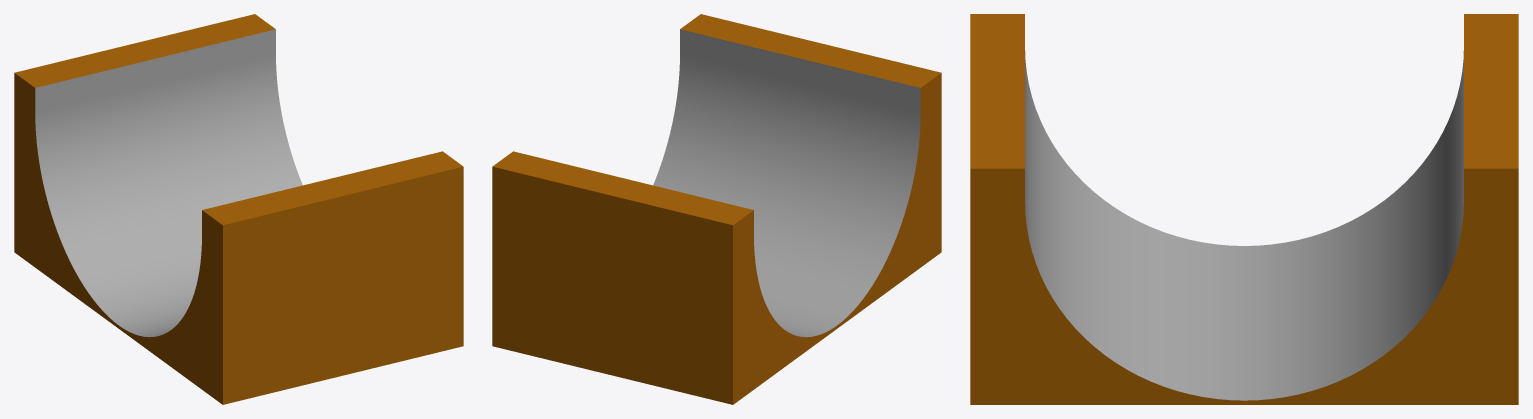
File: halfpipe.fbx
The picture shows the model from 3 angles, left to right: view 1: azimuth 30°, elevation 25°; view 2: azimuth 150°, elevation 25°; view 3: azimuth 270°, elevation 25°; orthographic projection. The views are drawn at different scales.
Visible parts, largest first — view 1: pCube4; view 2: pCube4; view 3: pCube4.
Part boxes in pixels (x1,y1,x2,y2): pCube4: [14, 14, 463, 404]; pCube4: [492, 14, 941, 404]; pCube4: [970, 14, 1518, 404].
Size of the model in its own units: 10240 by 7304 by 15360.
